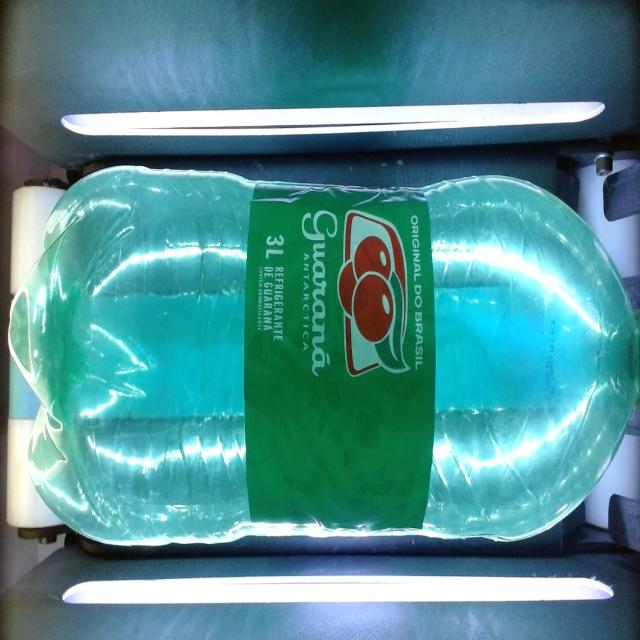bottle: (9, 167, 640, 544)
